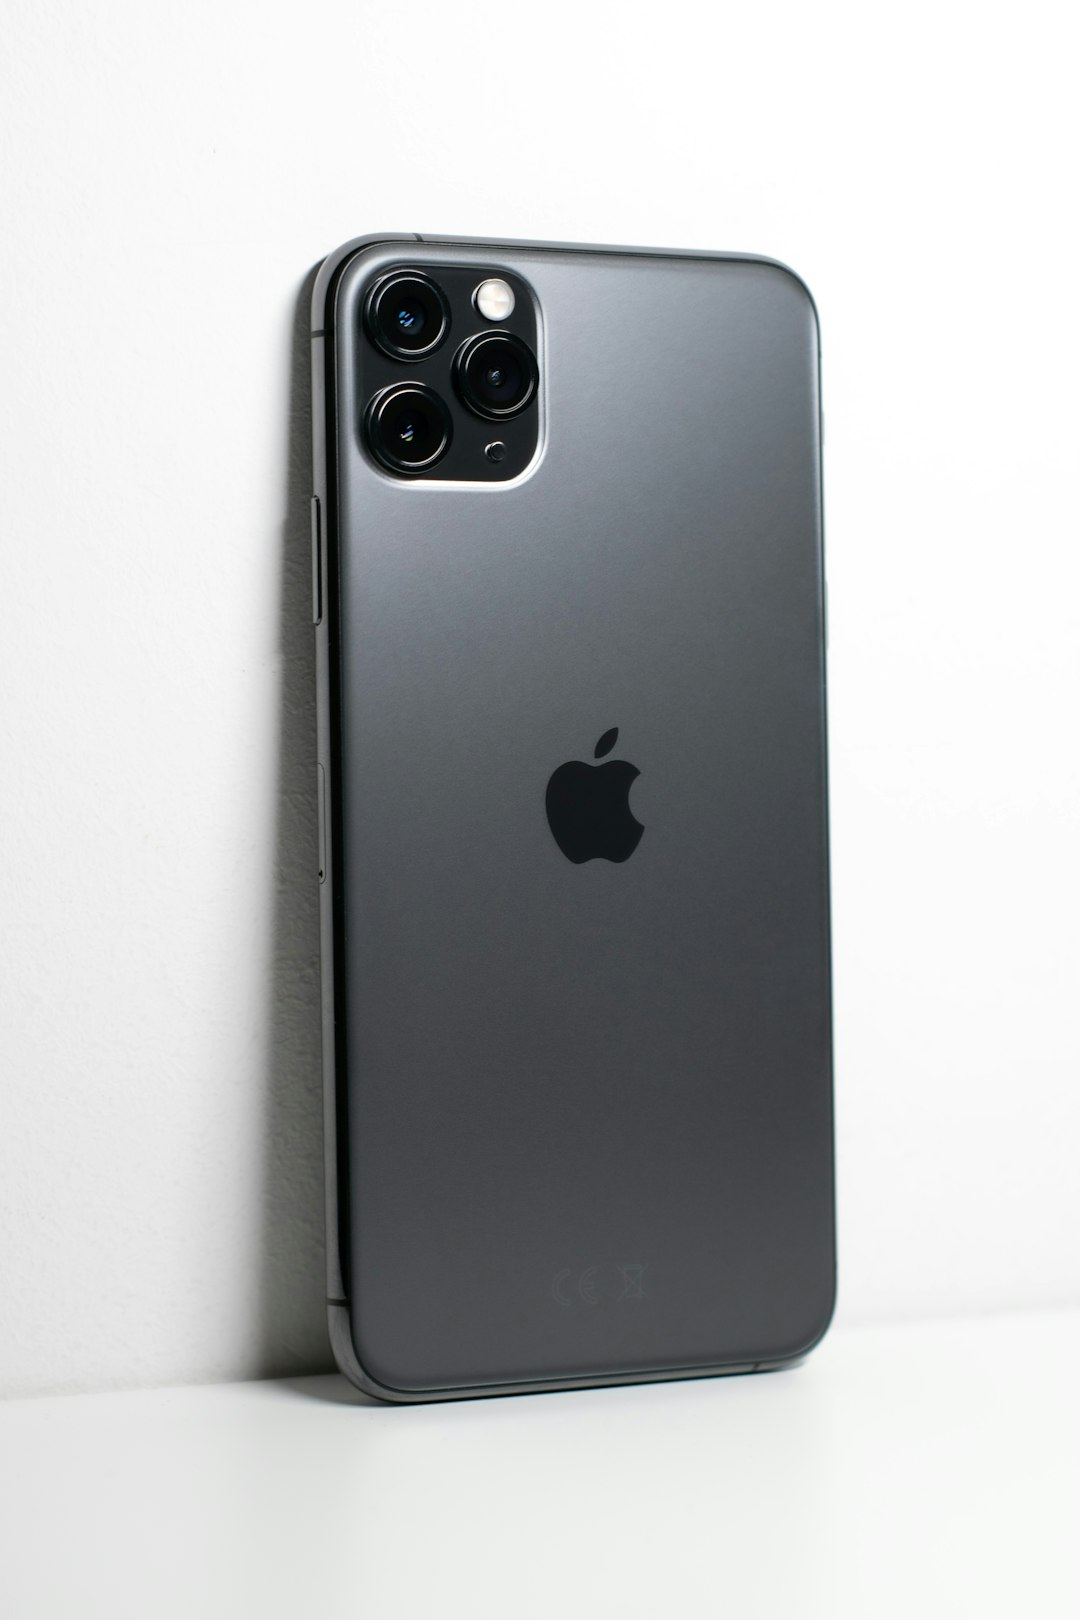phone: (311, 225, 849, 1395)
